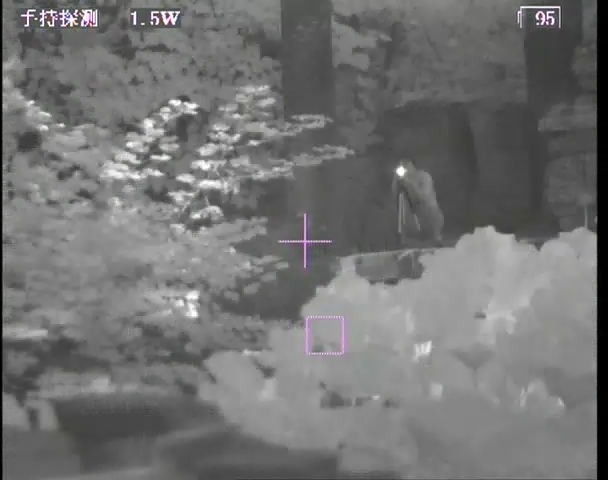my: (392, 164, 407, 177)
